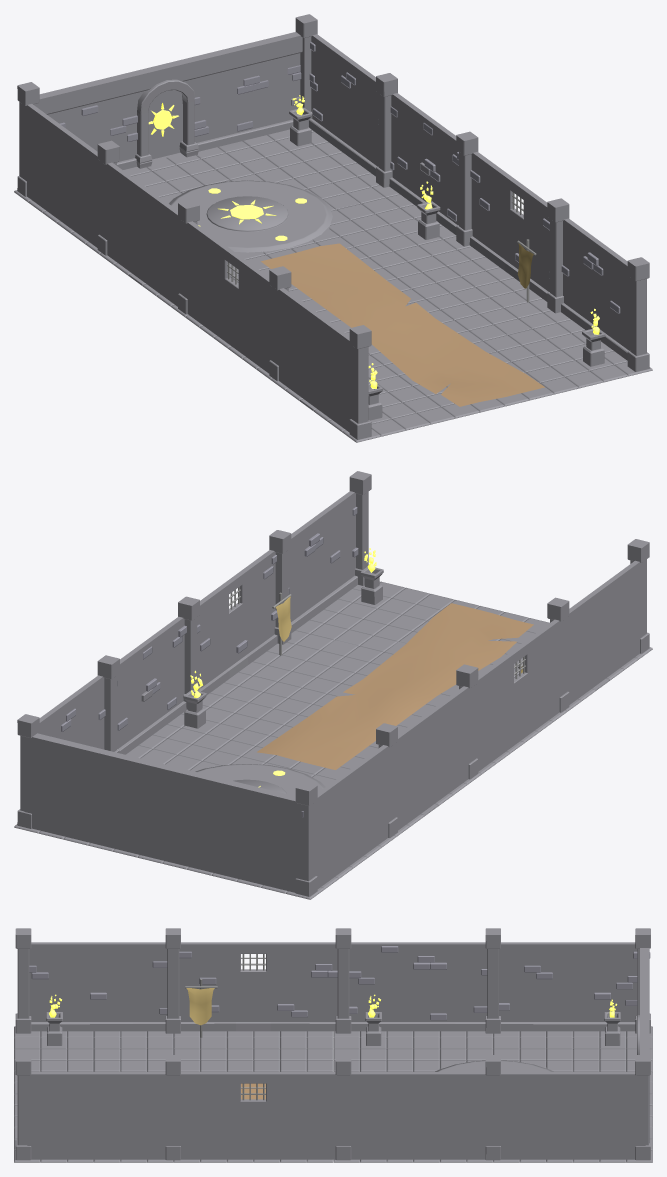
Rendered from Light_Dungeon.glb.
3 renders of one model, top to bottom at view 1: azimuth 30°, elevation 25°; view 2: azimuth 150°, elevation 25°; view 3: azimuth 270°, elevation 25°, orthographic. The views are drawn at different scales.
Parts seen in each view (by area): view 1: Object_7, Object_6, Object_2, Object_8, Object_10, Object_9, Object_4; view 2: Object_7, Object_6, Object_2, Object_8, Object_9, Object_10; view 3: Object_7, Object_6, Object_10, Object_8, Object_9, Object_3, Object_5, Object_4.
Boxes of the visible parts, bbox=[...] form: Object_7: bbox=[17, 34, 651, 440]; Object_6: bbox=[15, 14, 649, 439]; Object_2: bbox=[261, 243, 544, 406]; Object_8: bbox=[185, 250, 652, 442]; Object_10: bbox=[59, 42, 620, 313]; Object_9: bbox=[14, 131, 470, 316]; Object_4: bbox=[148, 95, 599, 388]; Object_7: bbox=[38, 491, 651, 888]; Object_6: bbox=[15, 471, 649, 897]; Object_2: bbox=[257, 603, 533, 769]; Object_8: bbox=[203, 581, 652, 774]; Object_9: bbox=[14, 707, 481, 899]; Object_10: bbox=[61, 507, 358, 817]; Object_7: bbox=[14, 942, 650, 1160]; Object_6: bbox=[14, 928, 652, 1160]; Object_10: bbox=[29, 946, 650, 1020]; Object_8: bbox=[14, 1027, 333, 1162]; Object_9: bbox=[333, 1027, 652, 1162]; Object_3: bbox=[186, 988, 214, 1025]; Object_5: bbox=[185, 954, 265, 1100]; Object_4: bbox=[49, 994, 617, 1017].
Size of the model in its own units: 23.88 by 8.28 by 47.78.
